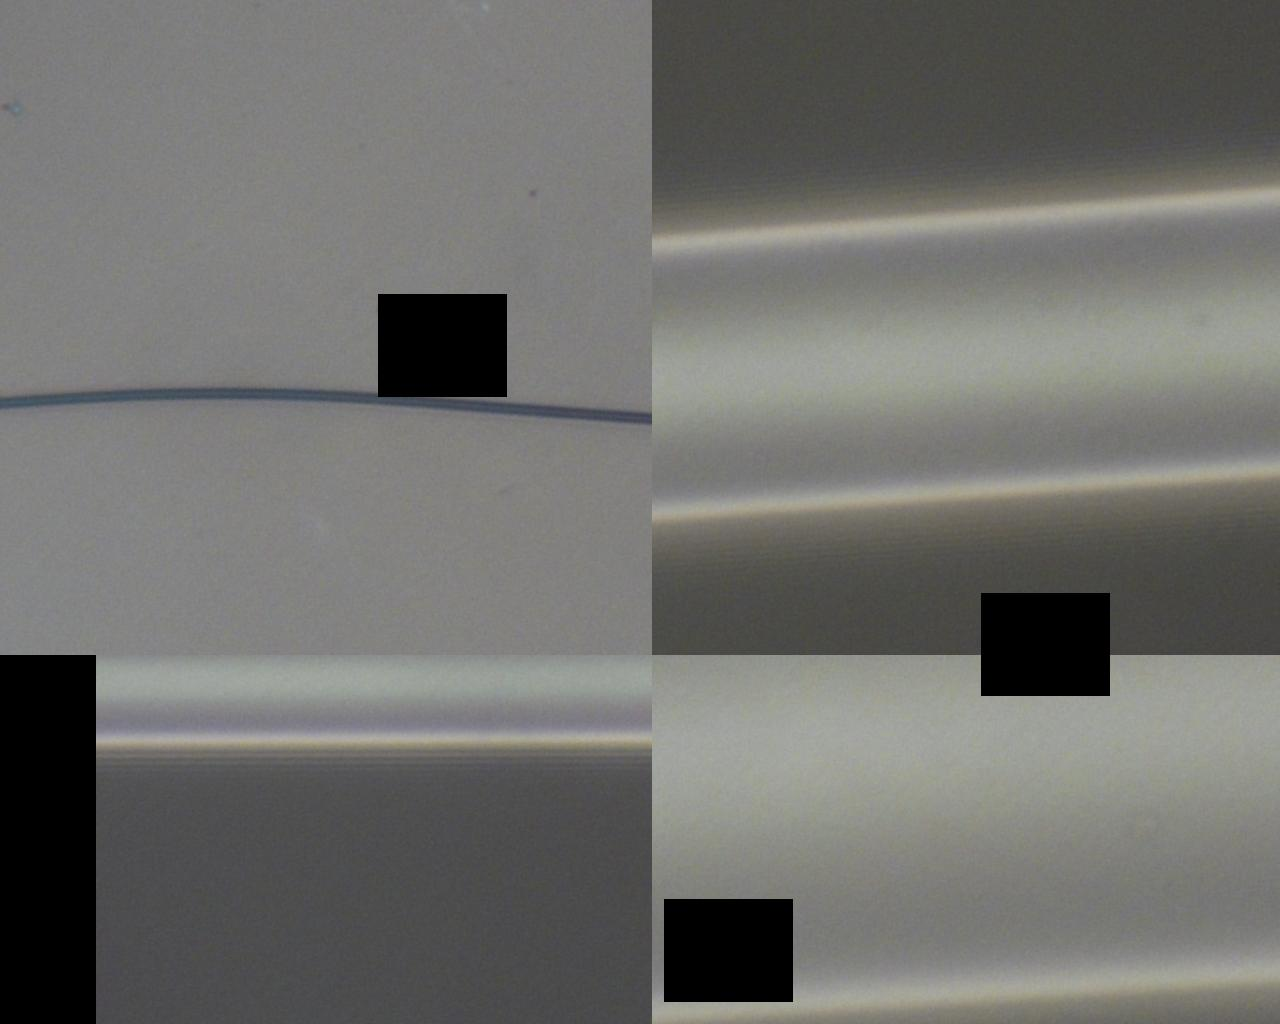fiber: (652, 655, 1280, 1024), (652, 182, 1280, 526), (96, 655, 652, 752), (0, 386, 652, 426)
